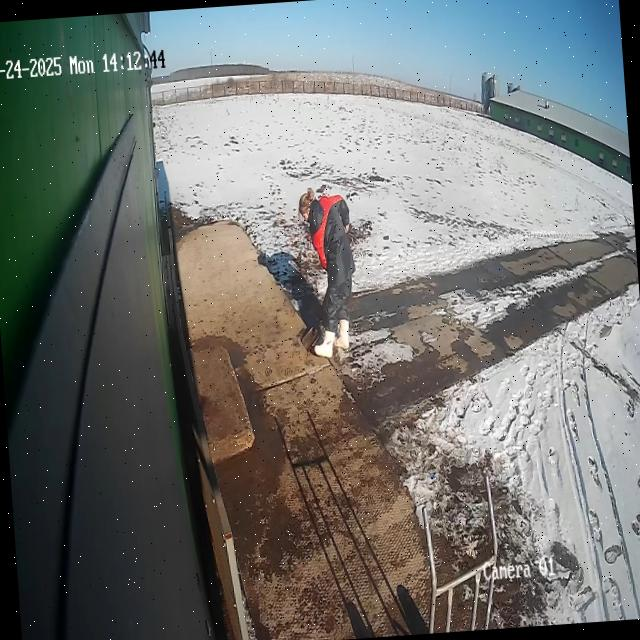Red uniform: (298, 188, 355, 358)
